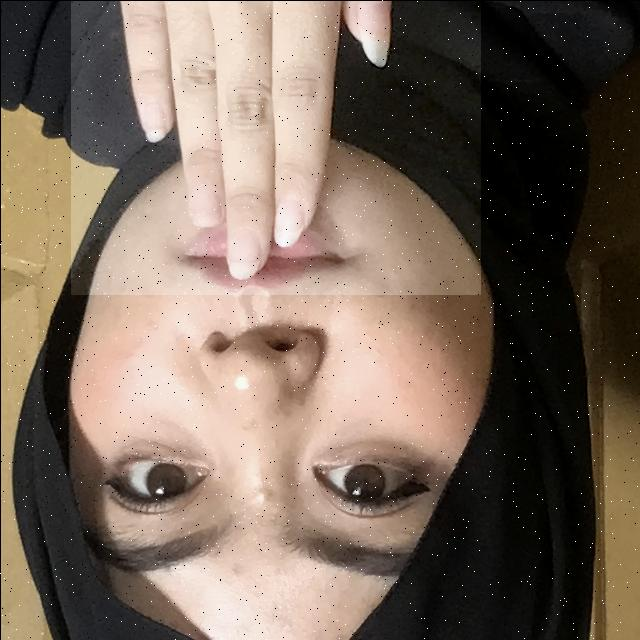ganteng: (70, 0, 480, 294)
